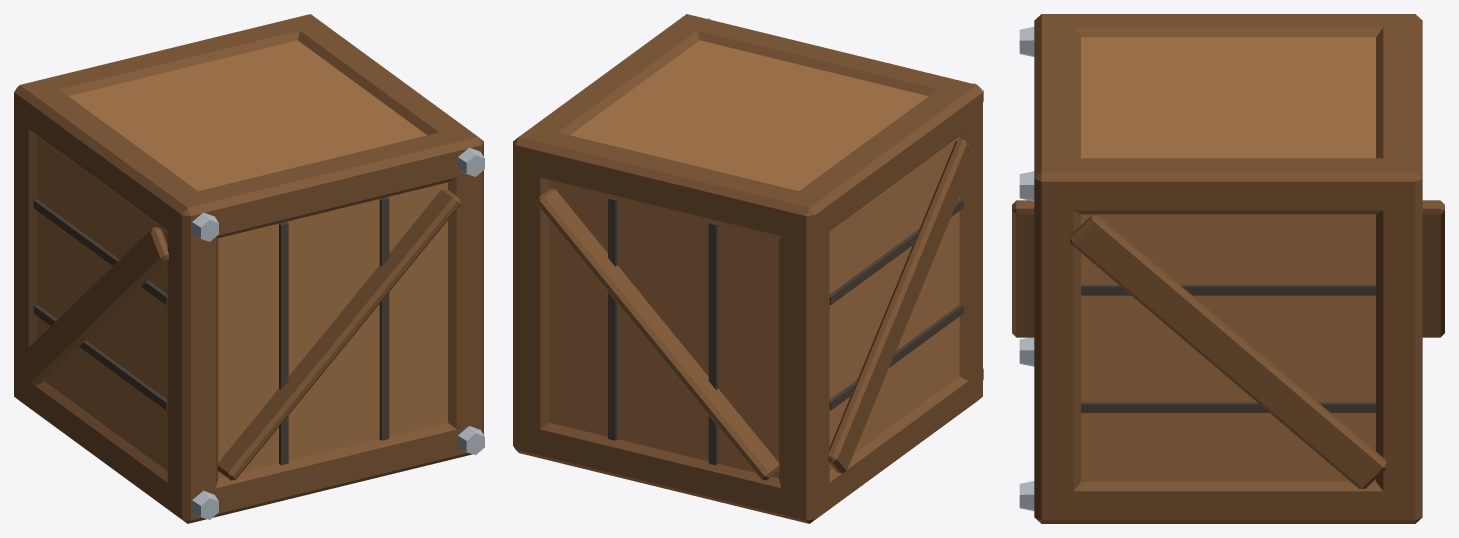
The model's file is Prop_CrateSmall.fbx.
3 views of the same model, side by side, from view 1: azimuth 30°, elevation 25°; view 2: azimuth 150°, elevation 25°; view 3: azimuth 270°, elevation 25° (orthographic). The views are drawn at different scales.
Parts seen in each view (by area): view 1: Wood, WoodDark, Timber, SteelLight; view 2: WoodDark, Wood, Timber; view 3: WoodDark, Wood, Timber, SteelLight.
Part boxes in pixels (bbox=[...]): Wood: bbox=[37, 40, 447, 478]; WoodDark: bbox=[14, 14, 483, 523]; Timber: bbox=[33, 197, 389, 465]; SteelLight: bbox=[192, 147, 484, 519]; WoodDark: bbox=[513, 14, 982, 523]; Wood: bbox=[549, 40, 959, 478]; Timber: bbox=[608, 197, 963, 465]; WoodDark: bbox=[1012, 14, 1444, 523]; Wood: bbox=[1081, 37, 1375, 481]; Timber: bbox=[1081, 285, 1375, 412]; SteelLight: bbox=[1019, 27, 1034, 510].
Bounding box in the file's own units: 1.68 × 1.6 × 1.78.
